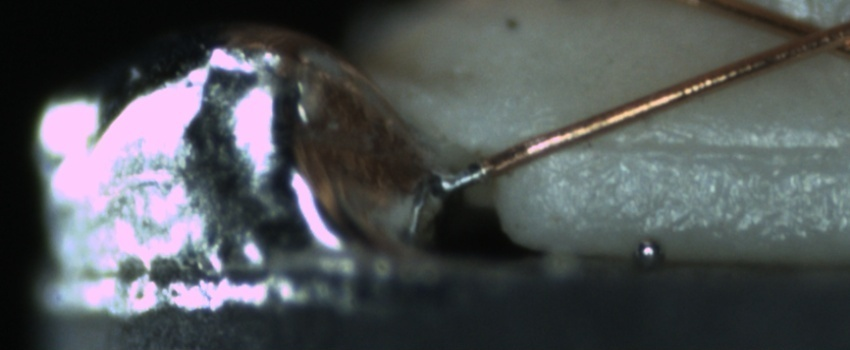CL: (768, 9, 849, 61)
DL: (556, 116, 846, 181)
TS: (434, 161, 487, 194)
